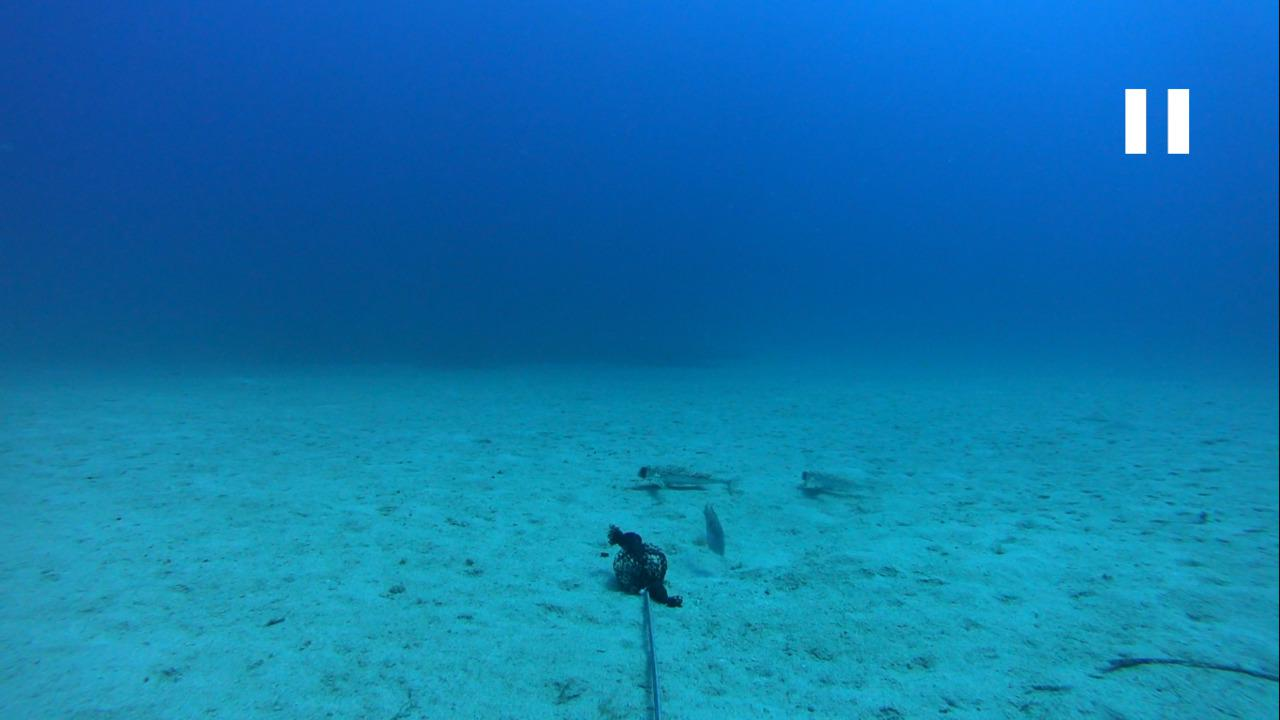dactylopterus: (618, 455, 745, 500), (781, 461, 869, 500)
raor: (691, 495, 733, 556)
